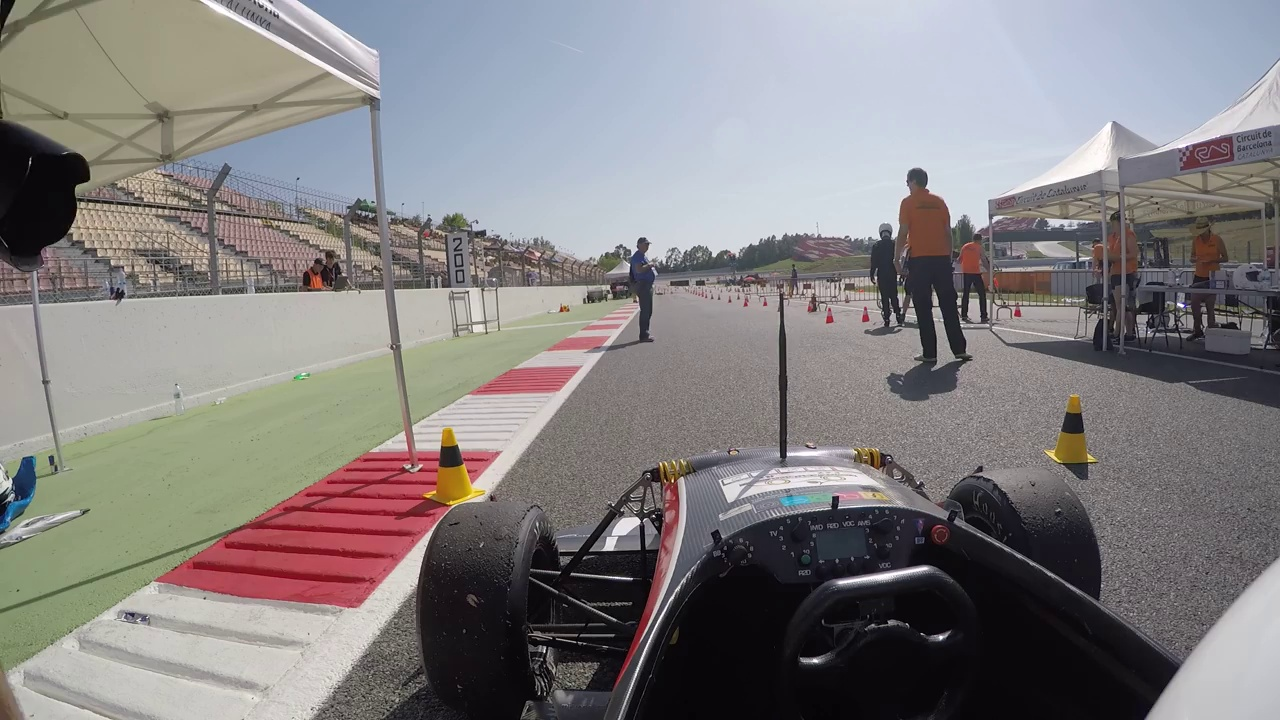Cone: (430, 427, 479, 507), (1050, 393, 1099, 464)
